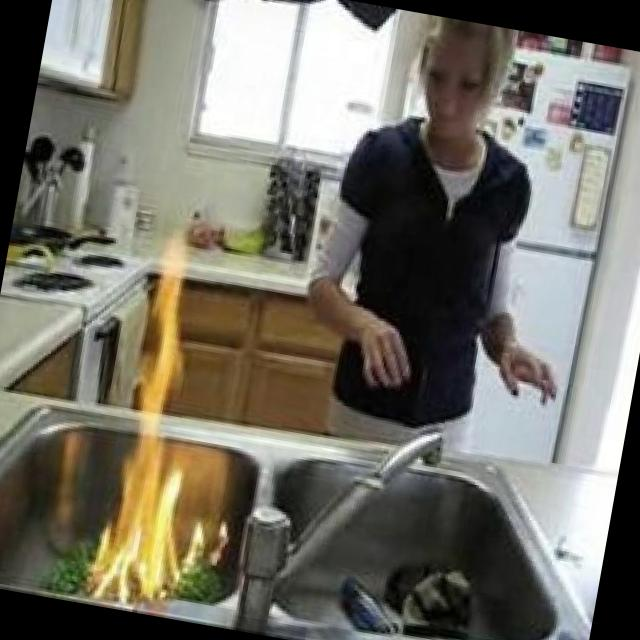Fire: (82, 224, 236, 618), (178, 512, 233, 592)
